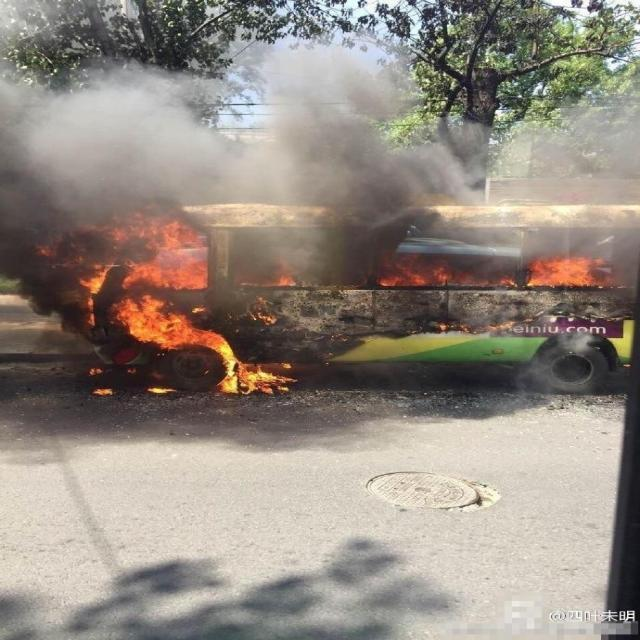Fire: (36, 204, 302, 396), (500, 254, 604, 288), (378, 254, 453, 287), (433, 320, 519, 332)
Smoke: (1, 1, 640, 397)
